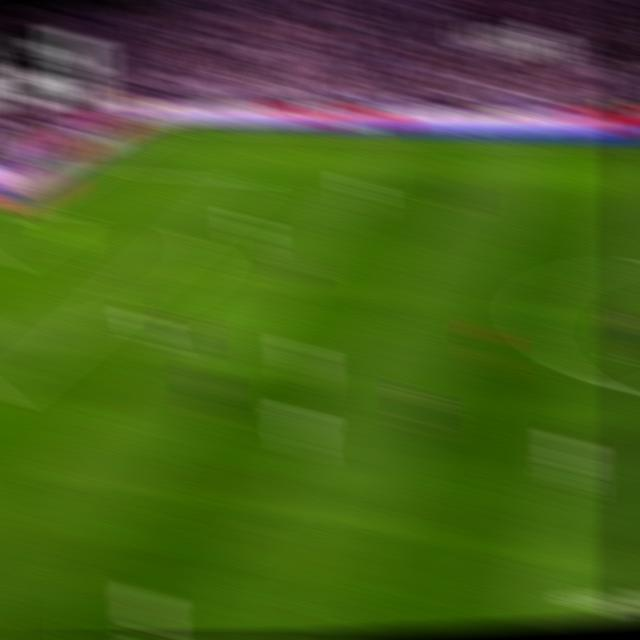bigarea_top_inner: (236, 169, 264, 190)
bigarea_top_outter: (72, 157, 101, 176)
bottom_arc_area_intersection: (82, 302, 113, 329)
corner: (139, 118, 169, 134)
smallarea_top_inner: (61, 206, 86, 223)
top_arc_area_intersection: (176, 223, 206, 244)
